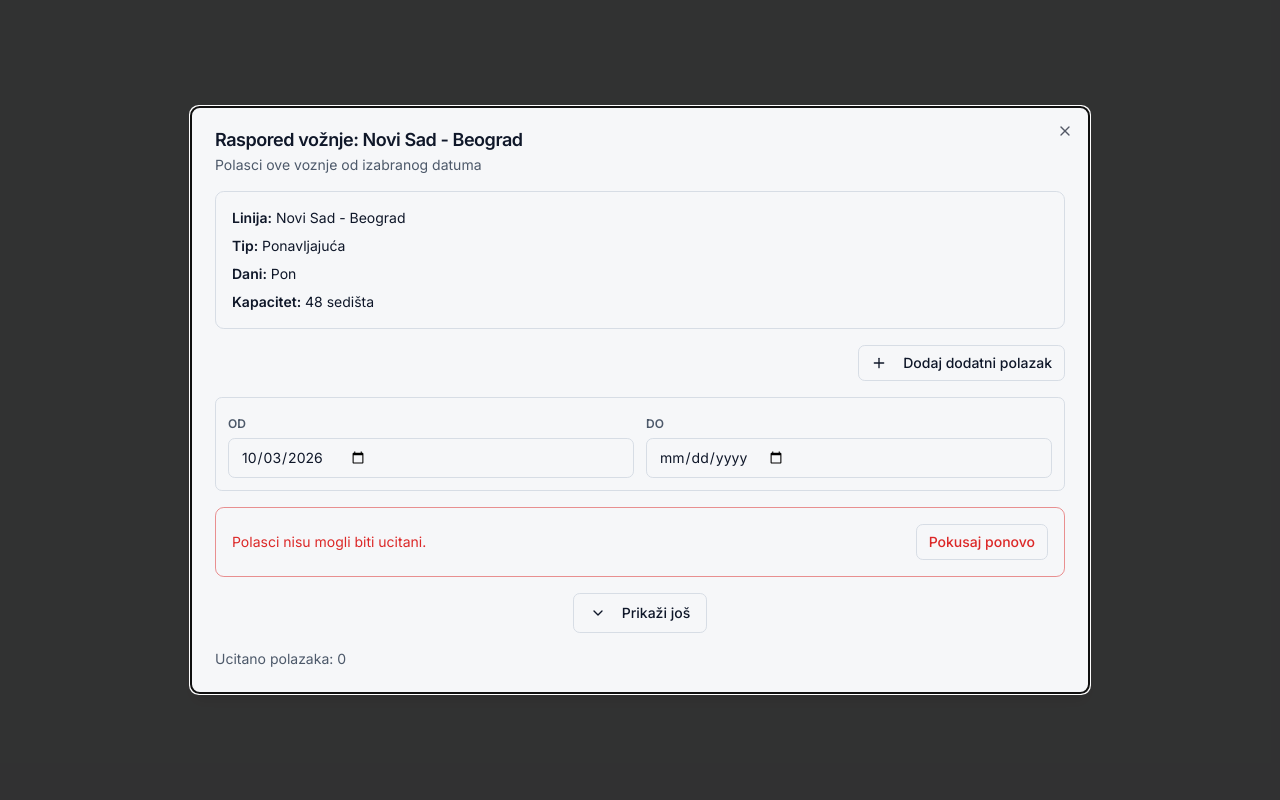
Test case: RideInstancesView › offers a retry when the departures cannot be read
expect the message shows "Polasci nisu mogli biti ucitani.": met, box [232,533,426,550]
expect the date field labelled "Od" is shown: met, box [228,438,634,478]
Click the button "Pokusaj ponovo".
click(982, 542)  # box [916,524,1048,560]
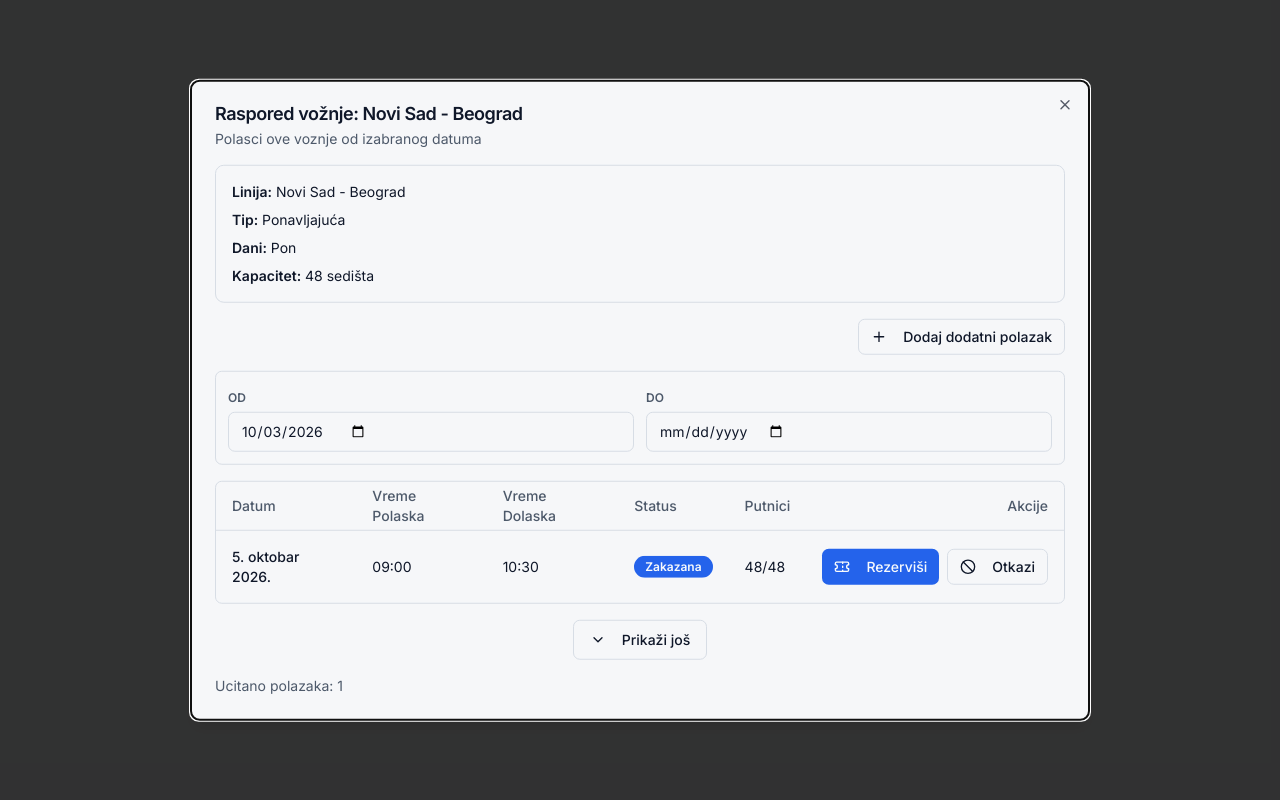
expect the number of rows is 2: met, box [216,482,1064,530]; [216,530,1064,602]
